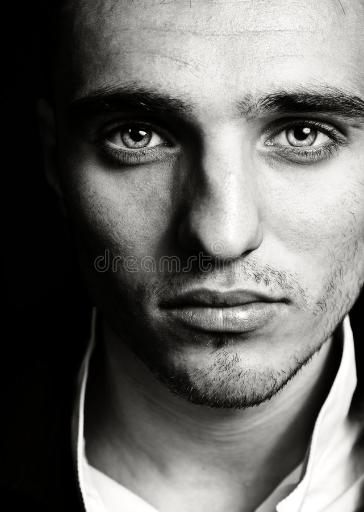left_eye: (260, 114, 347, 157)
left_lip_corner: (264, 287, 296, 320)
right_eye: (101, 116, 181, 155)
right_lip_corner: (154, 296, 178, 322)
